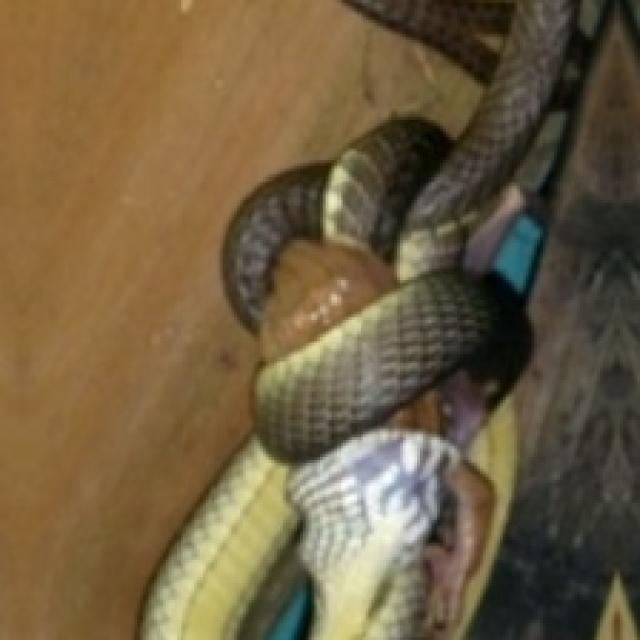paradise tree snake: (140, 0, 637, 637), (140, 0, 623, 637)
